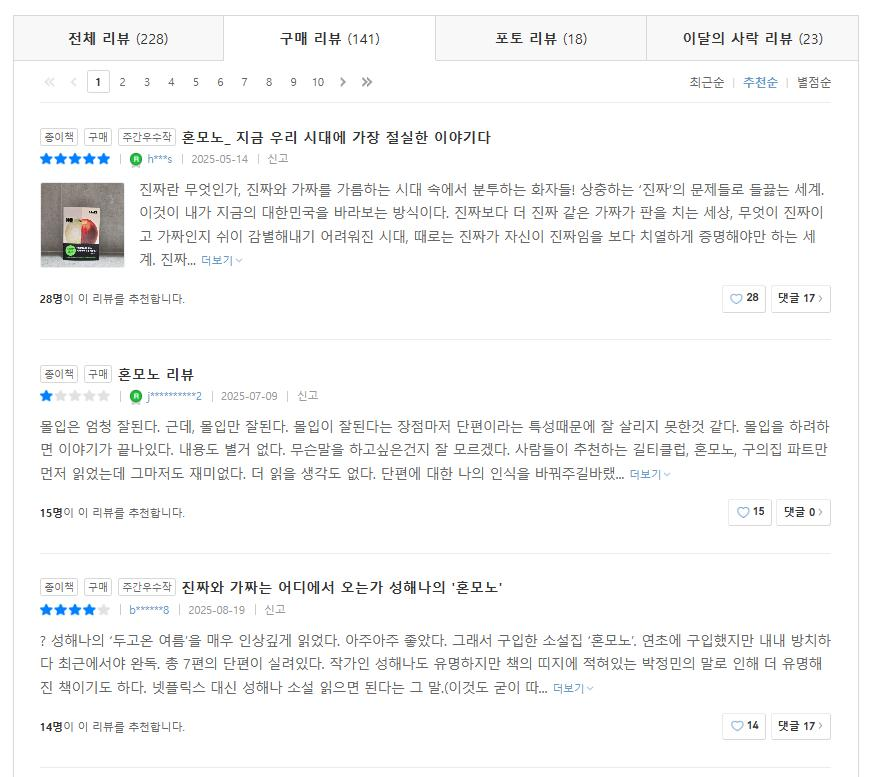button: (11, 19, 222, 63), (653, 16, 854, 61), (444, 19, 644, 58), (226, 20, 429, 58), (770, 285, 832, 315), (774, 498, 833, 526), (770, 714, 833, 740), (726, 496, 772, 524), (725, 285, 763, 314), (679, 72, 734, 92), (743, 70, 787, 93), (725, 717, 763, 739), (794, 69, 833, 90), (199, 251, 247, 268), (550, 679, 596, 696), (631, 466, 675, 481), (89, 71, 109, 91), (238, 71, 258, 91), (335, 72, 354, 92), (39, 73, 57, 91), (284, 73, 303, 90), (68, 69, 82, 91), (141, 71, 158, 89), (359, 72, 376, 90), (262, 75, 282, 90), (167, 71, 180, 92), (311, 72, 326, 89), (189, 73, 203, 91), (117, 72, 129, 90), (215, 74, 225, 91)
